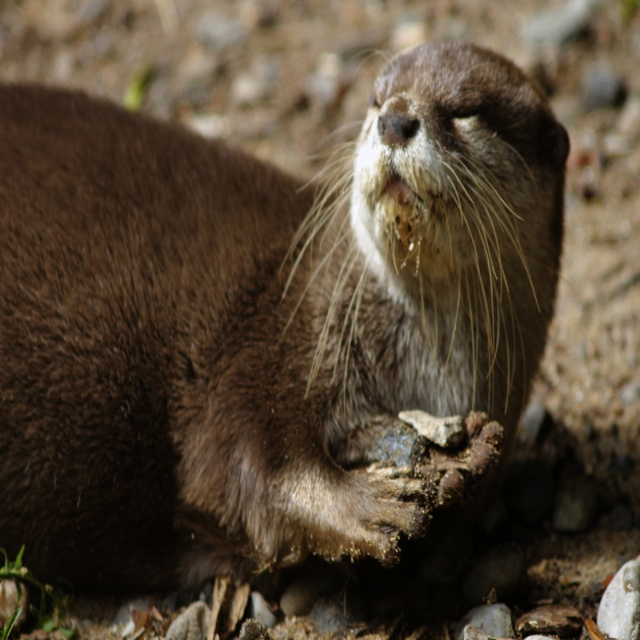Otter: (0, 39, 570, 587)
